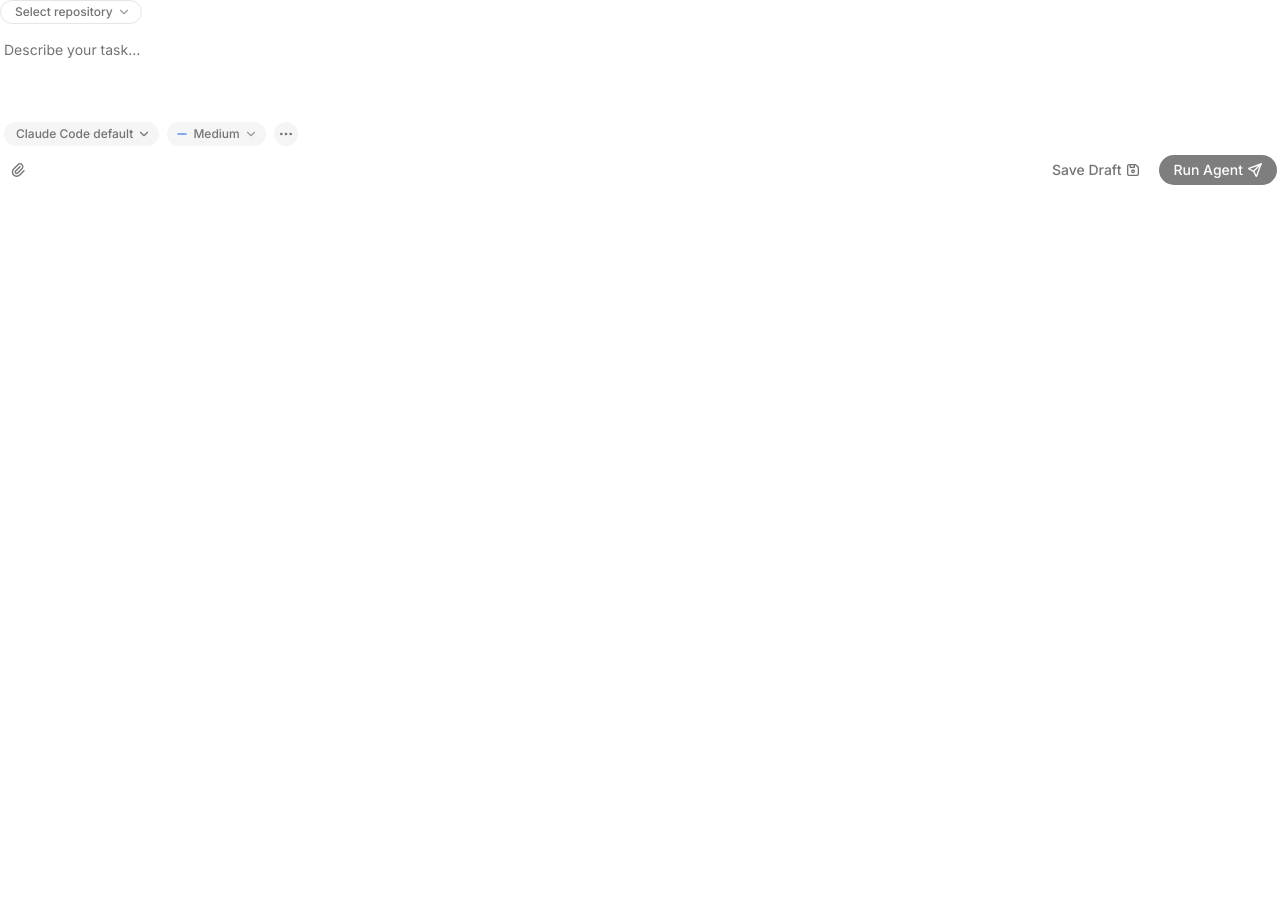
Scenario: IssueCreateForm › exposes the automatic PR tooltip by hover and keyboard focus
Click the button named "More options" at (286,134), box [274,122,298,146]
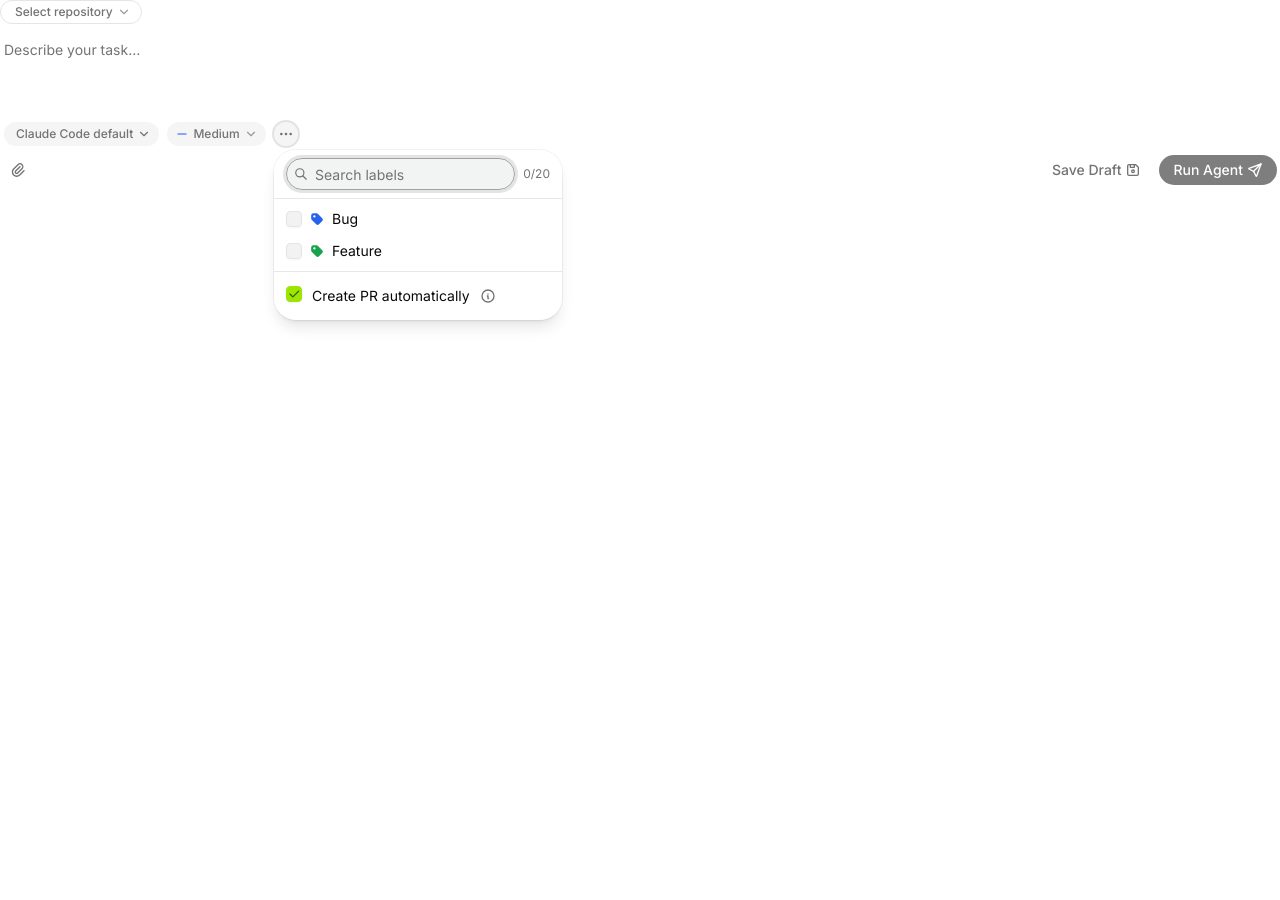
Hover over the button named "About Create PR automatically" at (488,296), box [476,284,500,308]
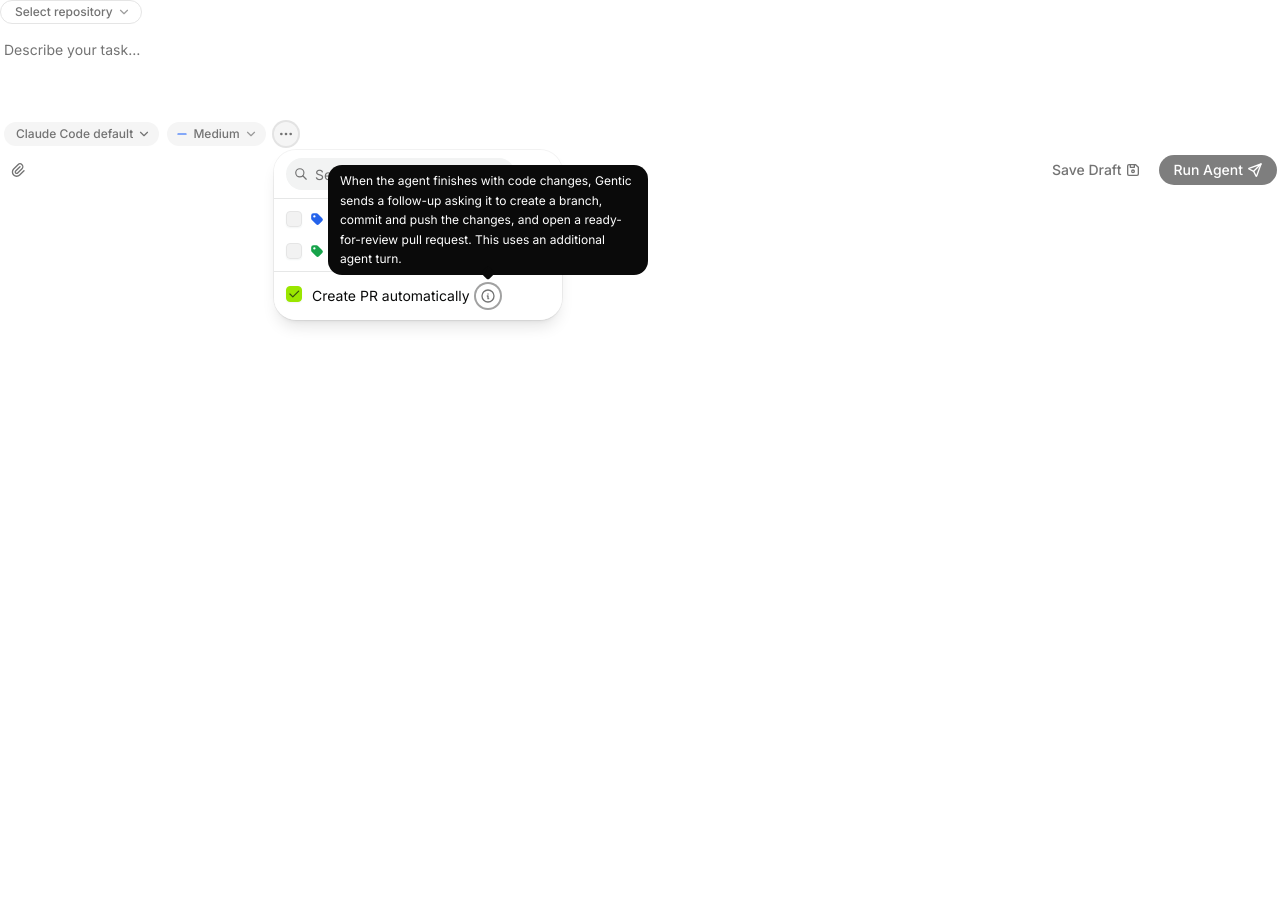
Now the tooltip "ready-for-review pull request" is shown, box [340,173,632,266]
